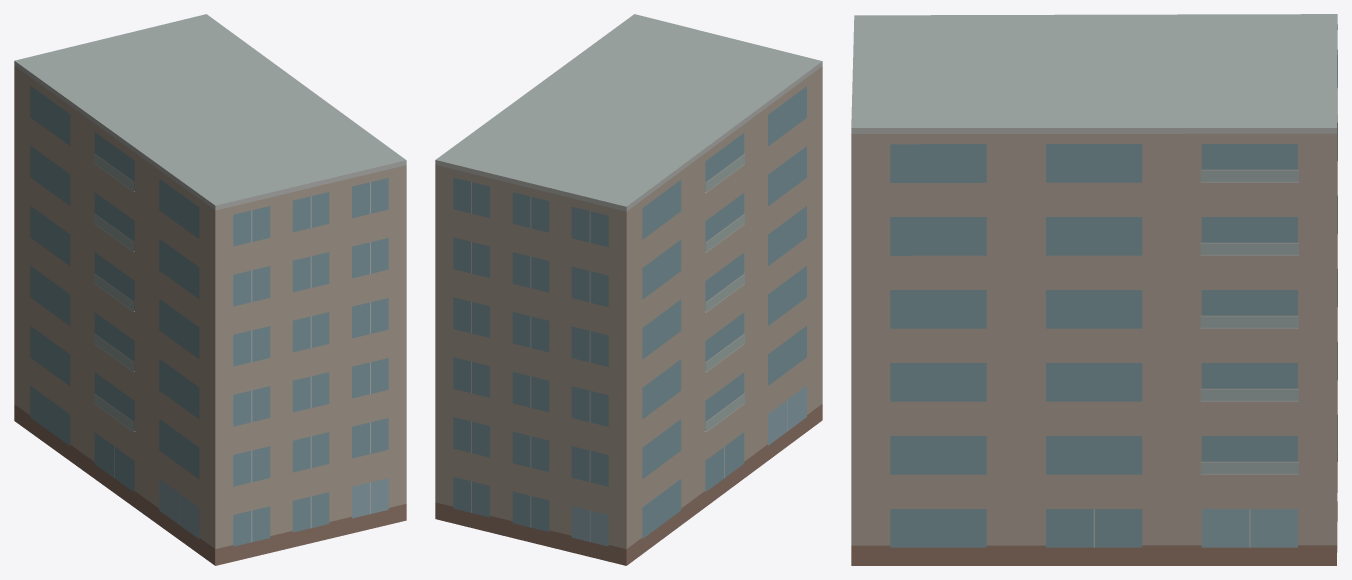
File: survey-upis-32961099.glb
The picture shows the model from 3 angles, left to right: view 1: azimuth 30°, elevation 25°; view 2: azimuth 150°, elevation 25°; view 3: azimuth 270°, elevation 25°; orthographic projection. The views are drawn at different scales.
Parts seen in each view (by area): view 1: survey-upis-32961099.tmp; view 2: survey-upis-32961099.tmp; view 3: survey-upis-32961099.tmp.
Boxes of the visible parts, bbox=[...] form: survey-upis-32961099.tmp: bbox=[14, 14, 406, 565]; survey-upis-32961099.tmp: bbox=[435, 14, 822, 565]; survey-upis-32961099.tmp: bbox=[851, 14, 1337, 565].
Bounding box in the file's own units: 10.14 × 18.1 × 18.24.
